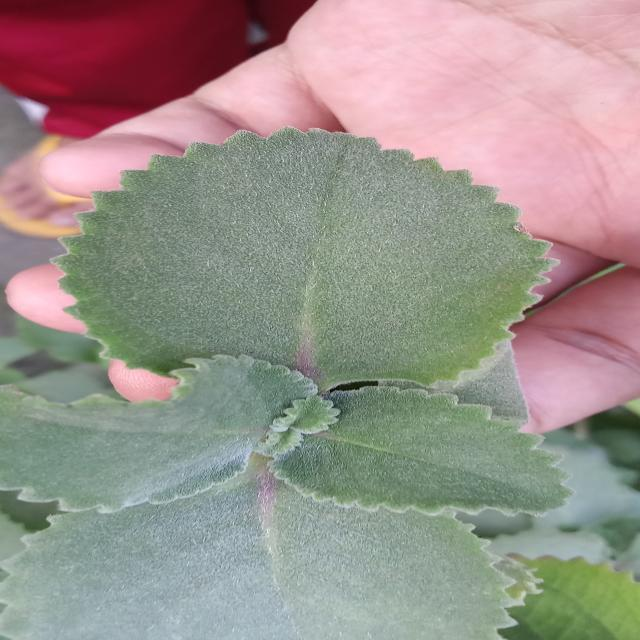Oregano: (46, 114, 527, 409)
